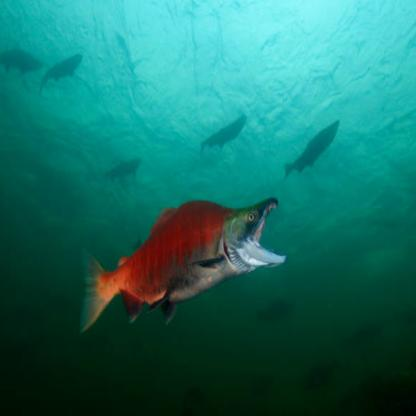sockeye: (90, 192, 288, 321)
